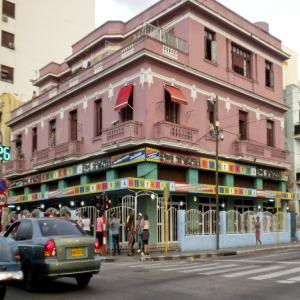Vehicle-registration-plate: (73, 249, 85, 258)
